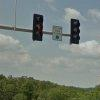Traffic light: (24, 8, 89, 55)
